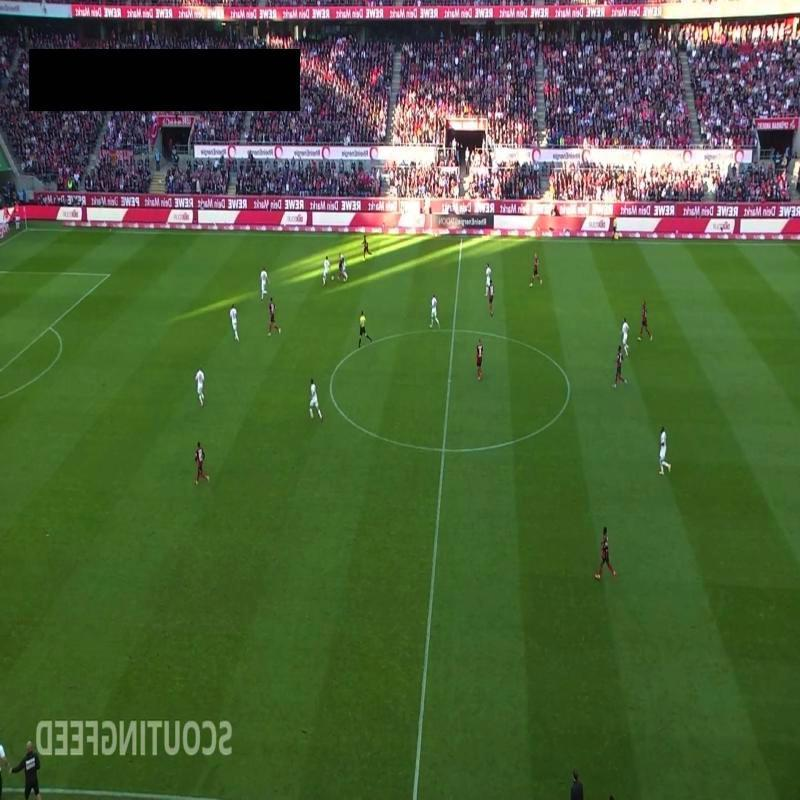1: (20, 224, 34, 238)
10: (41, 318, 59, 336)
13: (453, 232, 470, 247)
14: (447, 322, 461, 336)
15: (438, 442, 452, 456)
9: (101, 266, 116, 280)
c: (560, 378, 580, 401), (324, 374, 338, 388)
